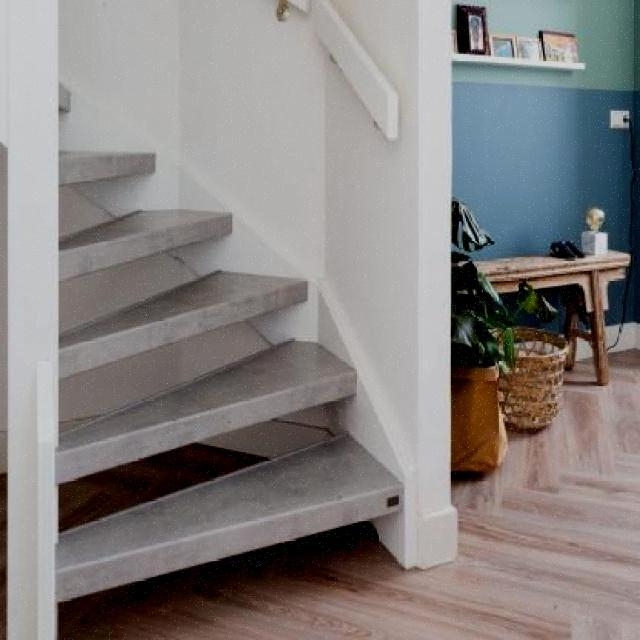stair: (2, 35, 440, 616)
